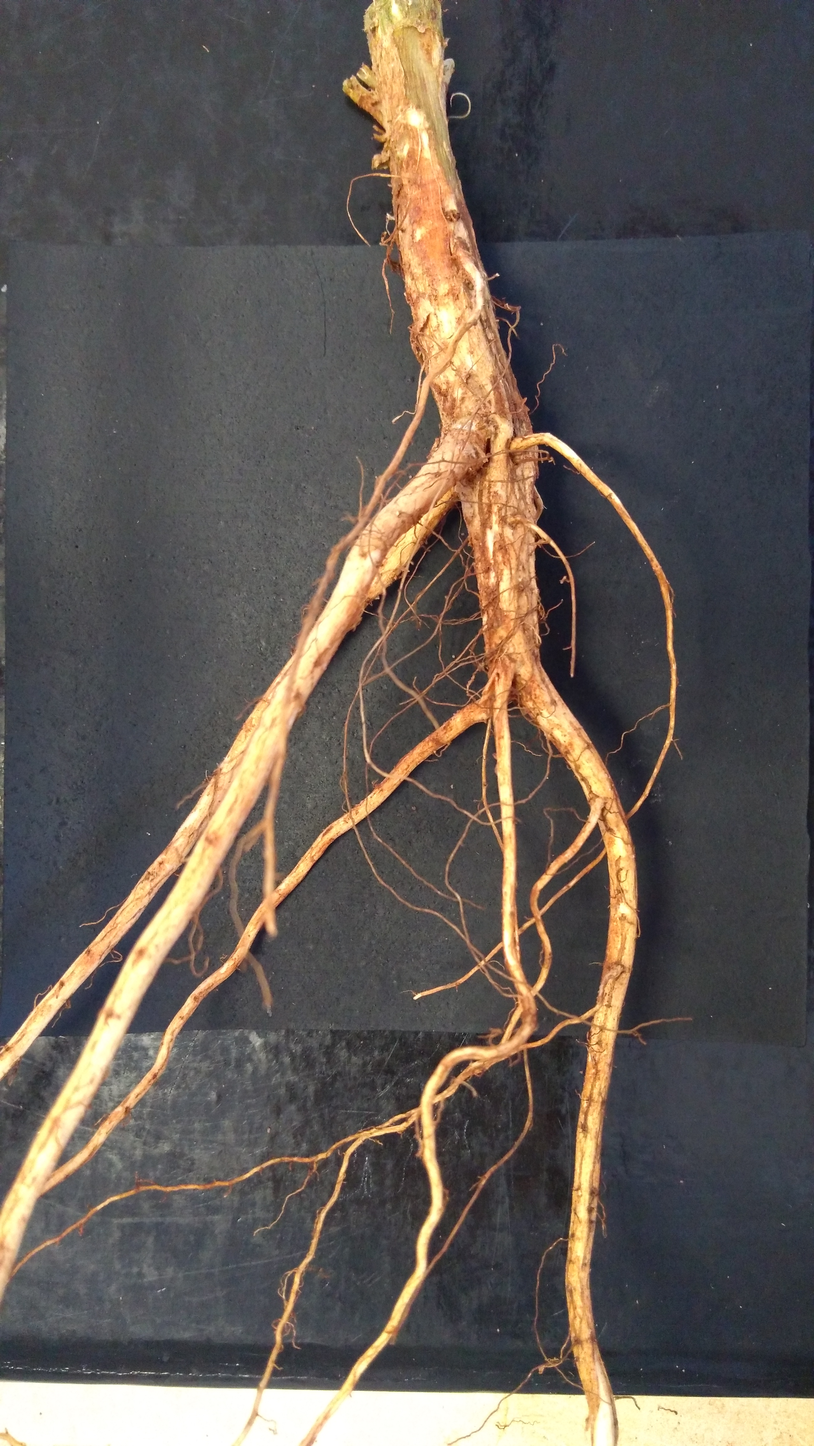nodule: (409, 312, 430, 347), (442, 58, 454, 85), (371, 154, 390, 170), (509, 437, 525, 456), (390, 260, 401, 275), (480, 452, 489, 463), (467, 535, 473, 547), (538, 1366, 544, 1375), (472, 562, 475, 566)
